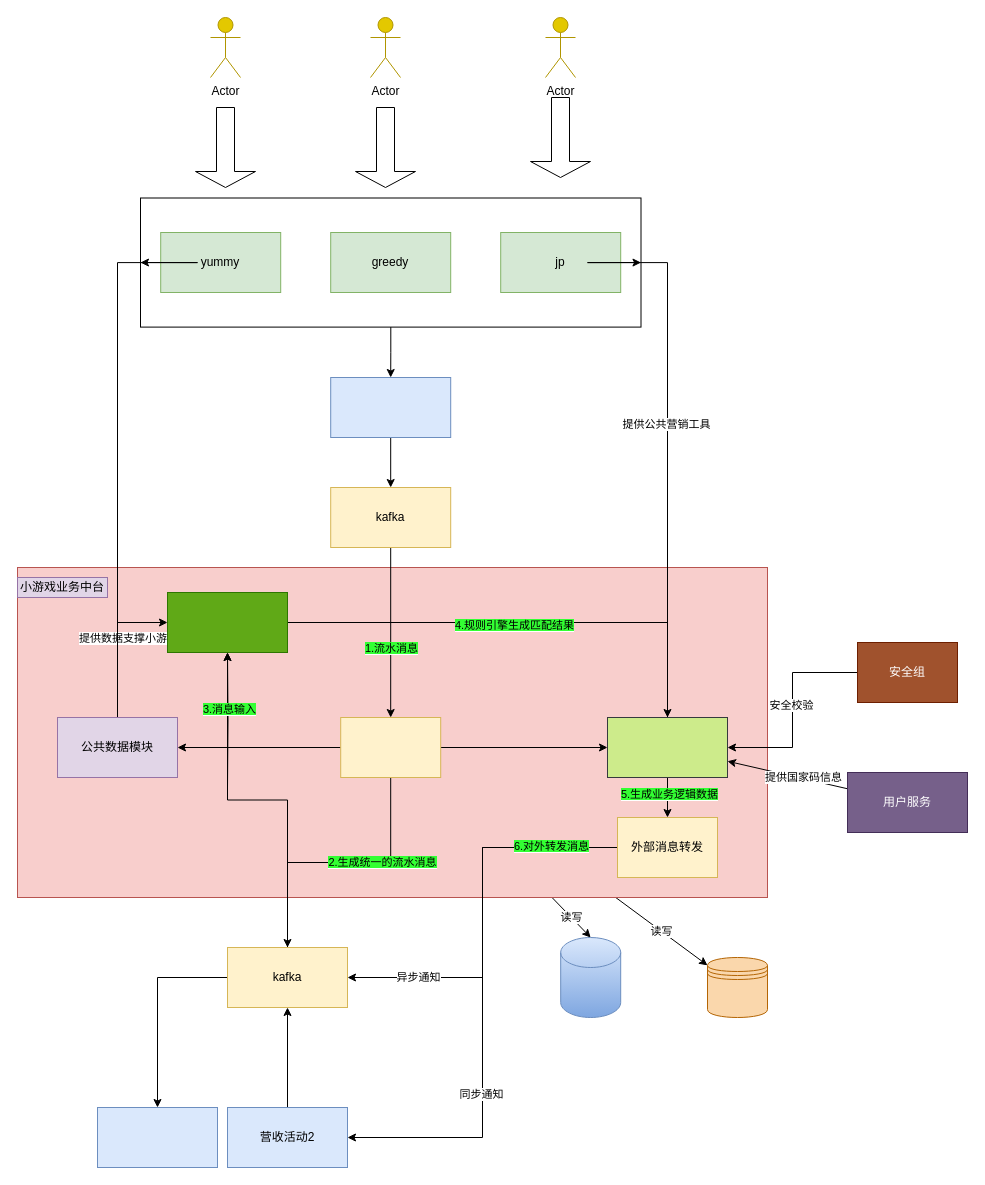
This 985x1185 diagram has some shape labels left out. The shapes that lost their labels are listed below. From the top down, each one's centre as x and y in pixels, then its label:
At [390,407]: "db".
At [227,622]: "规则引擎".
At [390,747]: "小游戏流水抽象".
At [667,747]: "小游戏公共业务".
At [590,977]: "redis".
At [737,987]: "myshard".
At [157,1137]: "营收活动1".
